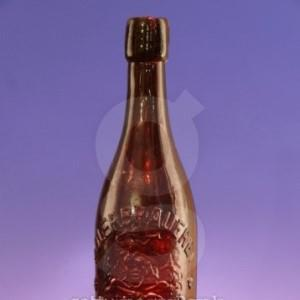beer: (96, 16, 197, 300)
